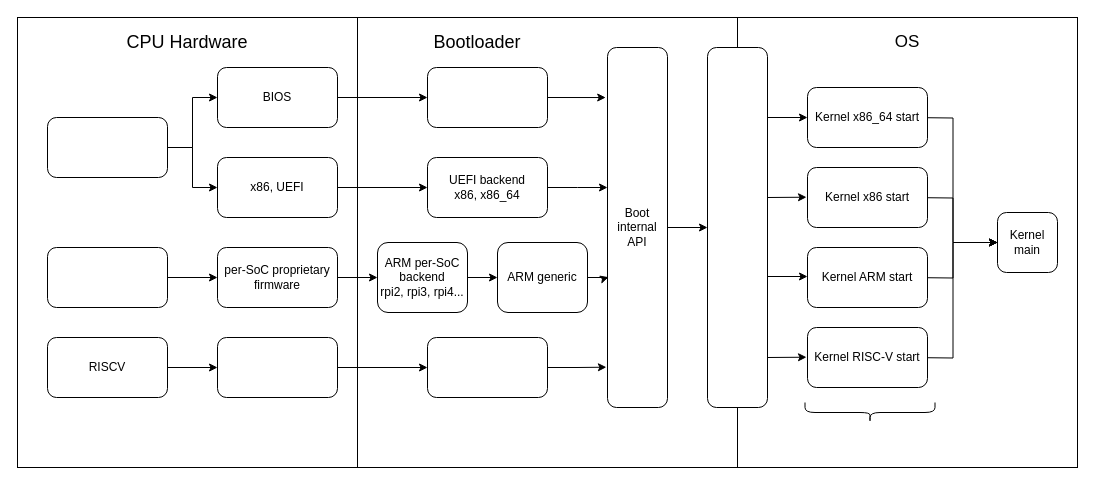
This 1095x485 diagram has some shape labels left out. Here are the shapes that lost their labels. From the top down, the centre of each, then its label:
(487,97): BIOS backend x86, x86_64
(107,147): x86, x86_64
(737,227): Frontend
(107,277): ARM, ARM64
(277,367): OpenSBI
(487,367): RISC-V backend
(869,412): ARCH Specific
